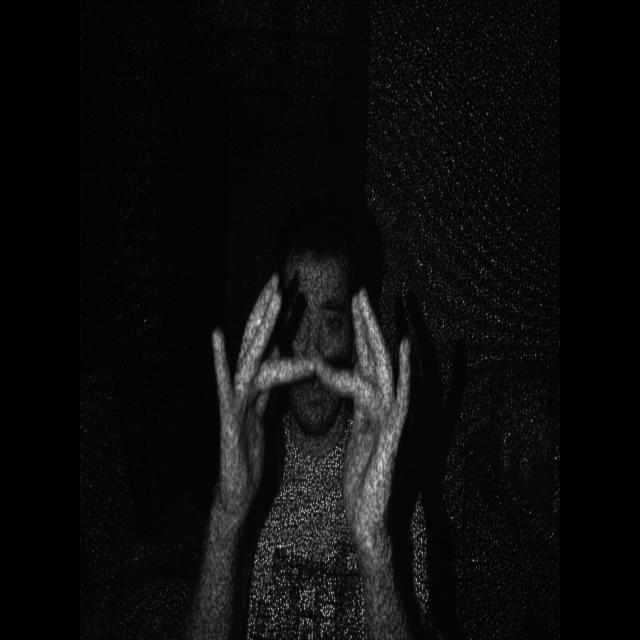REACH: (204, 254, 426, 551)
